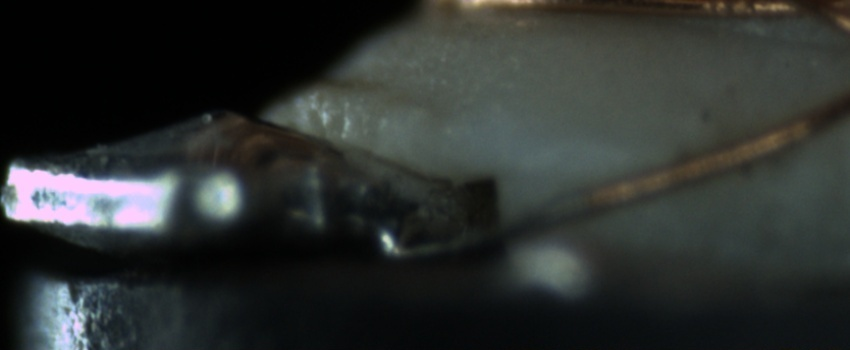TS: (414, 192, 588, 257)
